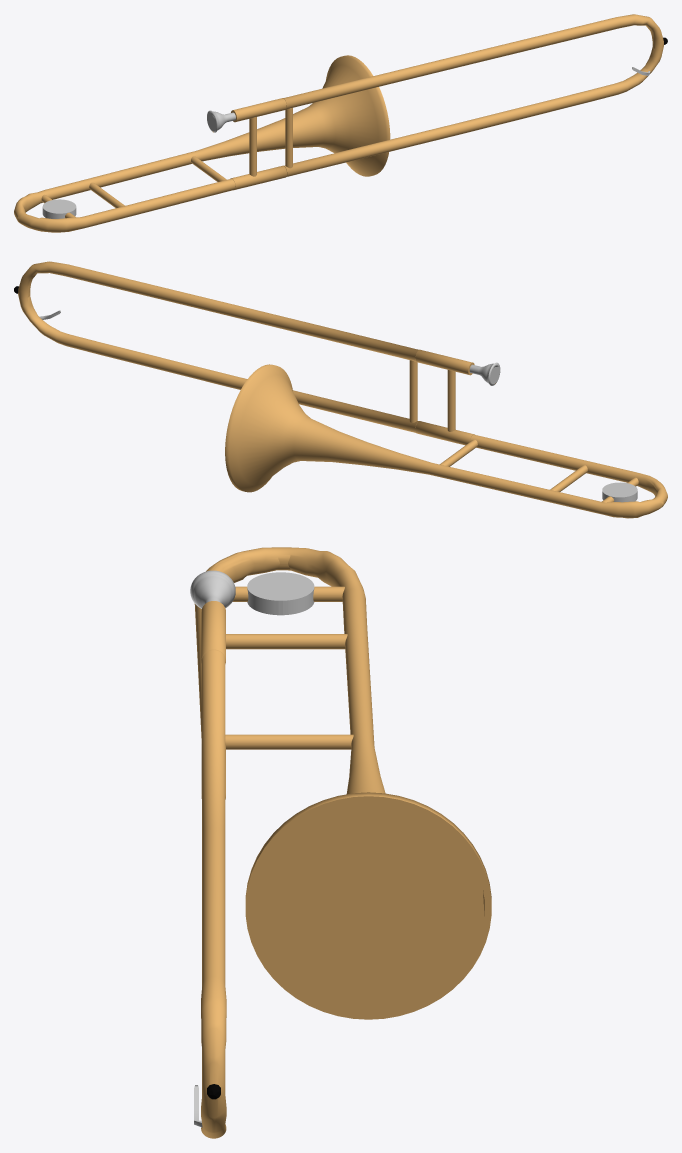
File: Trombone.fbx
3 renders of one model, top to bottom at view 1: azimuth 30°, elevation 25°; view 2: azimuth 150°, elevation 25°; view 3: azimuth 270°, elevation 25°, orthographic. The views are drawn at different scales.
Parts seen in each view (by area): view 1: Trombone, Slide; view 2: Trombone, Slide; view 3: Trombone, Slide.
Part boxes in pixels (left/top/right/bottom): Trombone: left=14, top=55, right=390, bottom=232; Slide: left=283, top=14, right=667, bottom=176; Trombone: left=225, top=349, right=667, bottom=518; Slide: left=14, top=261, right=419, bottom=432; Trombone: left=190, top=547, right=491, bottom=1019; Slide: left=194, top=649, right=226, bottom=1138.
Bounding box in the file's own units: 952 × 193 × 196.
